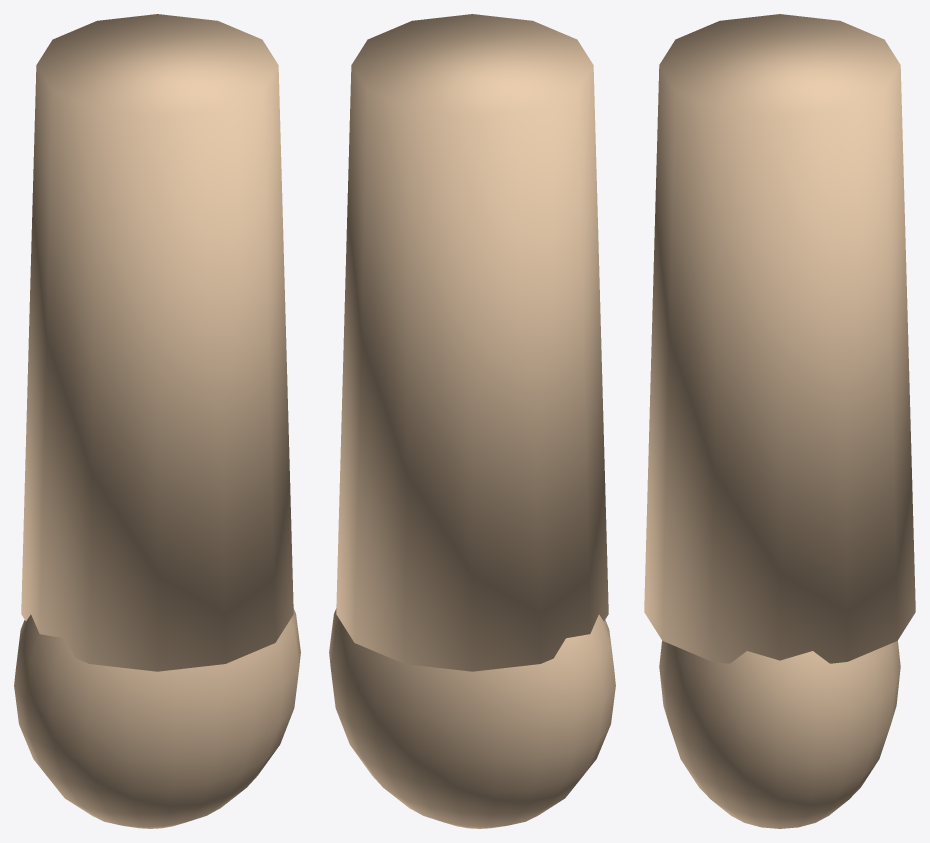
File: fig_fore_arm.glb
3 views of the same model, side by side, from view 1: azimuth 30°, elevation 25°; view 2: azimuth 150°, elevation 25°; view 3: azimuth 270°, elevation 25° (orthographic).
Visible parts, largest first — view 1: skin_forearm, skin_hand; view 2: skin_forearm, skin_hand; view 3: skin_forearm, skin_hand.
Boxes of the visible parts, x1,y1,x2,y2 form: skin_forearm: (21, 14, 293, 671); skin_hand: (14, 608, 300, 828); skin_forearm: (336, 14, 608, 671); skin_hand: (329, 608, 615, 828); skin_forearm: (644, 14, 915, 663); skin_hand: (659, 640, 900, 828).
Size of the model in its own units: 0.1 by 0.275 by 0.09.
